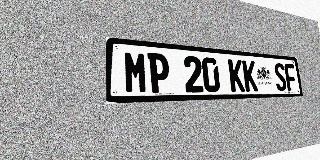0: (201, 57, 220, 92)
2: (183, 55, 204, 93)
F: (284, 63, 297, 91)
K: (228, 59, 245, 92), (242, 60, 258, 92)
M: (123, 51, 148, 94)
P: (147, 52, 170, 93)
S: (273, 63, 287, 91)
